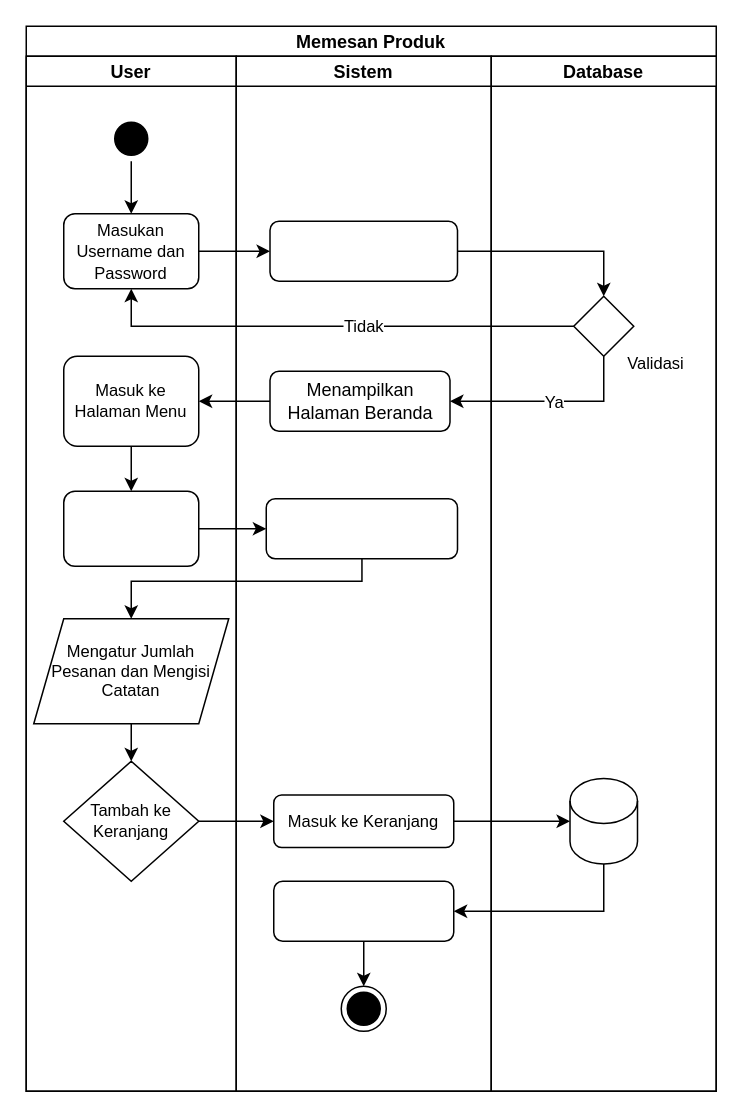
This 743x1118 diagram has some shape labels left out. Each missing label, with the centre of its shape:
"Melihat Detail" belongs at pixel 130 528.
"Memperoses Username dan Password" belongs at pixel 363 250.
"Menampilkan Halaman Detail Menu" belongs at pixel 361 528.
"Menampilkan Halaman Keranjang" belongs at pixel 363 910.
"Simpan" belongs at pixel 603 820.
